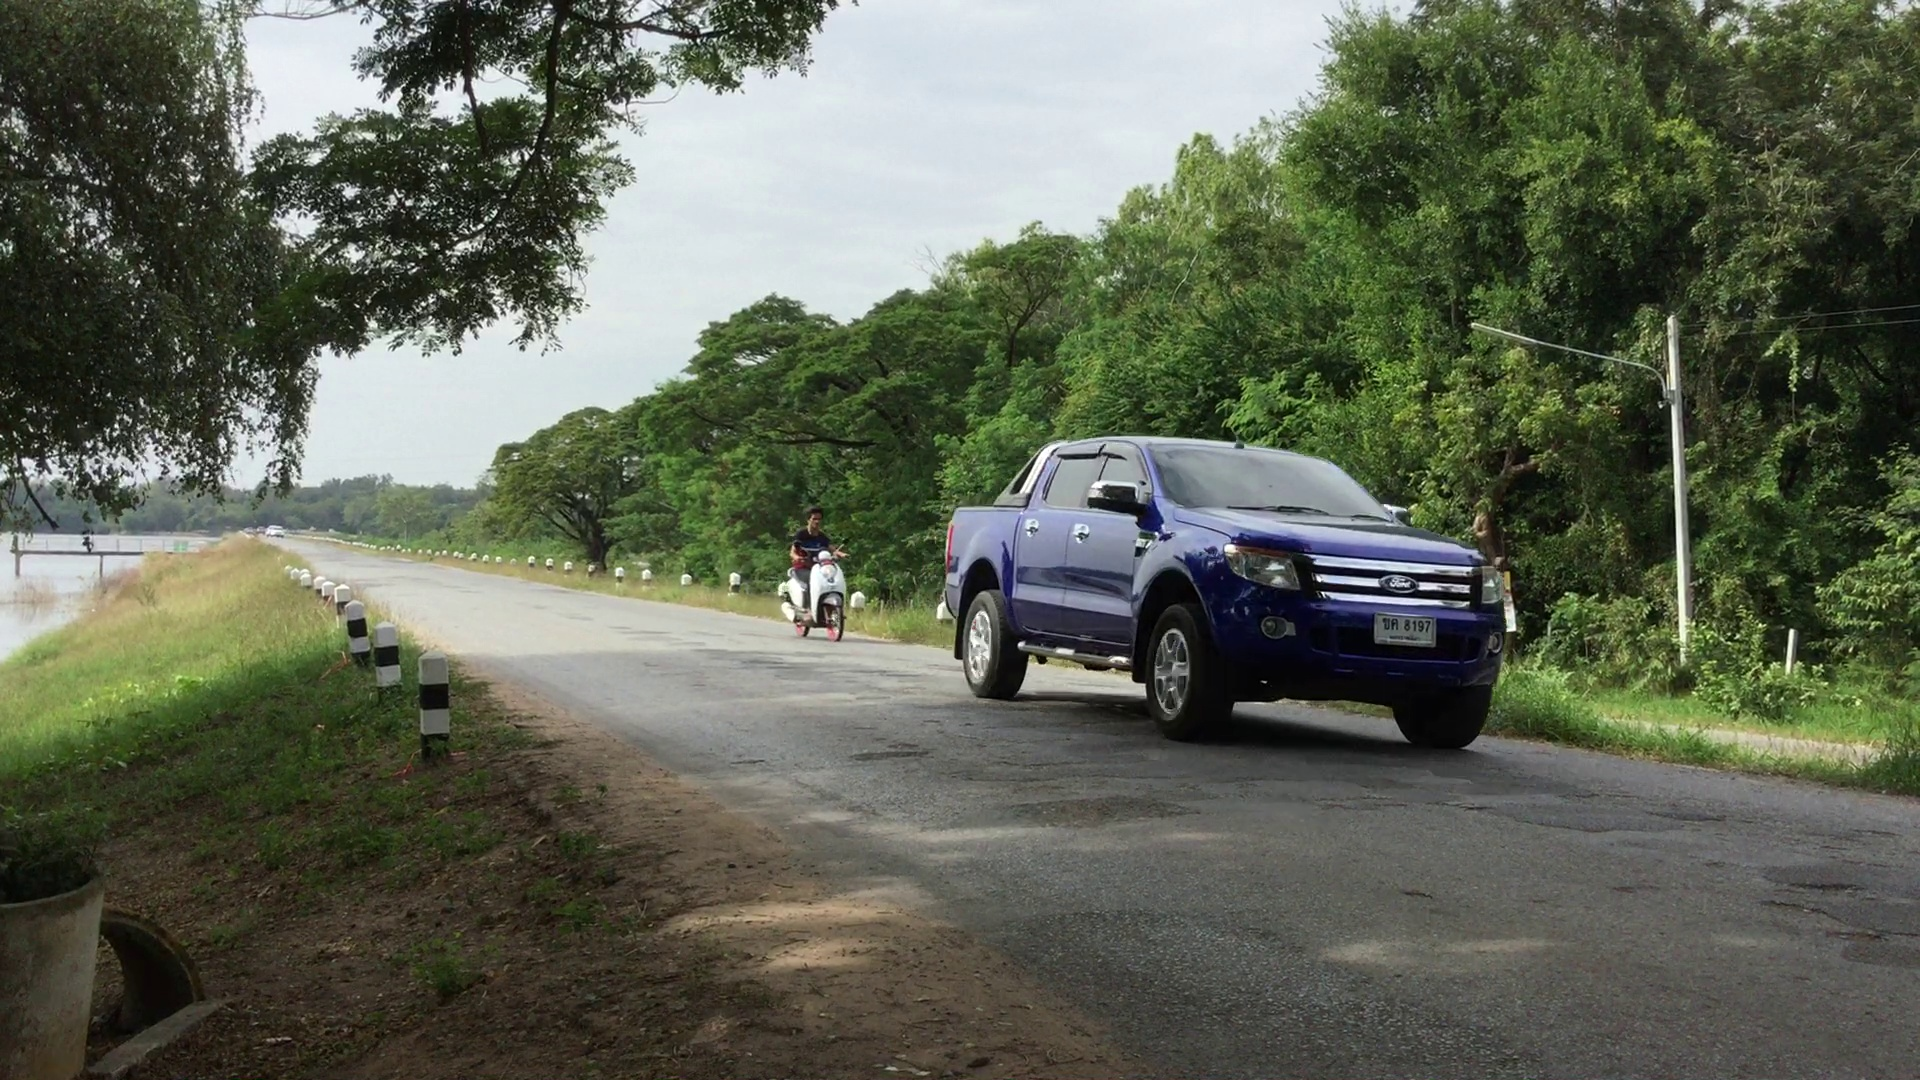car: (943, 437, 1509, 760)
person: (784, 512, 848, 646)
